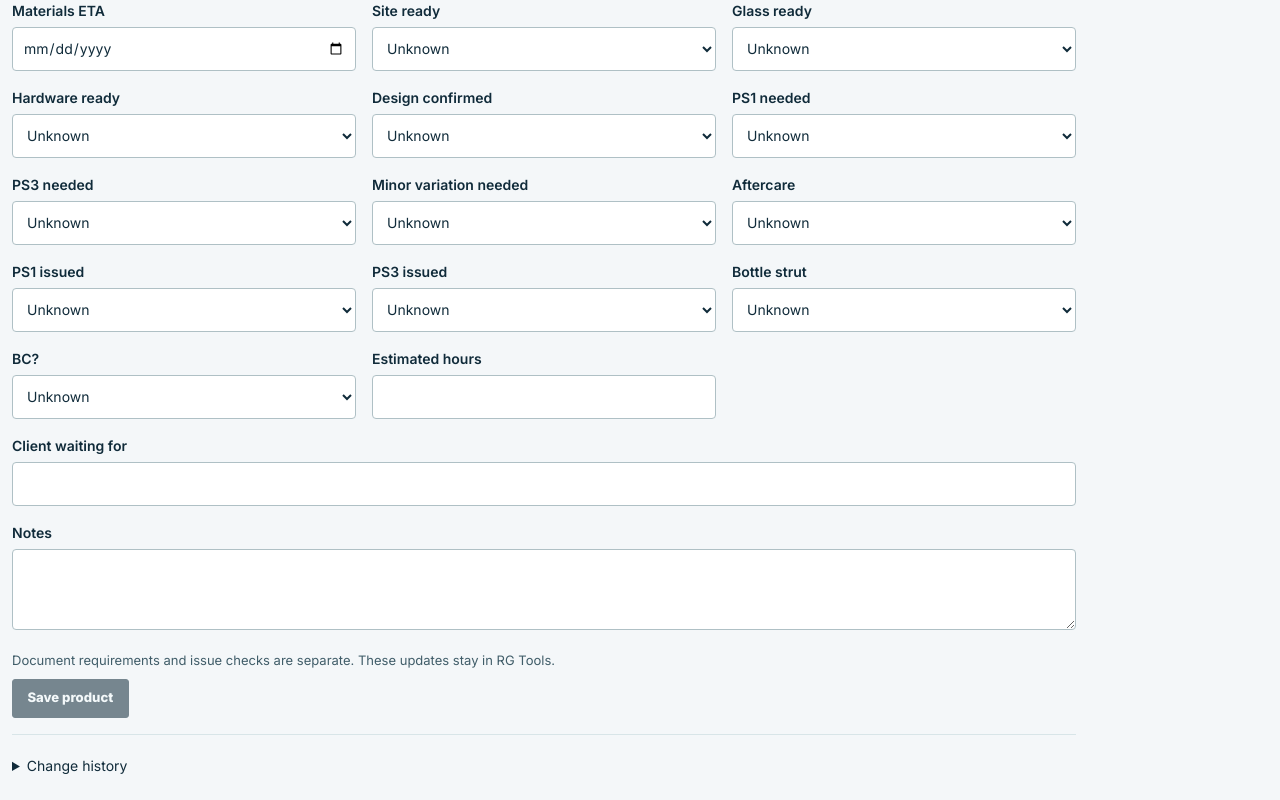
Test: staff product editor › retains a staff draft when a stale save is rejected
This screenshot has width=1280, height=800.
(page scrolled)
Step 1. Type "Keep my draft" into the text box labelled "Notes" → (544, 589), box [12,549,1076,630]
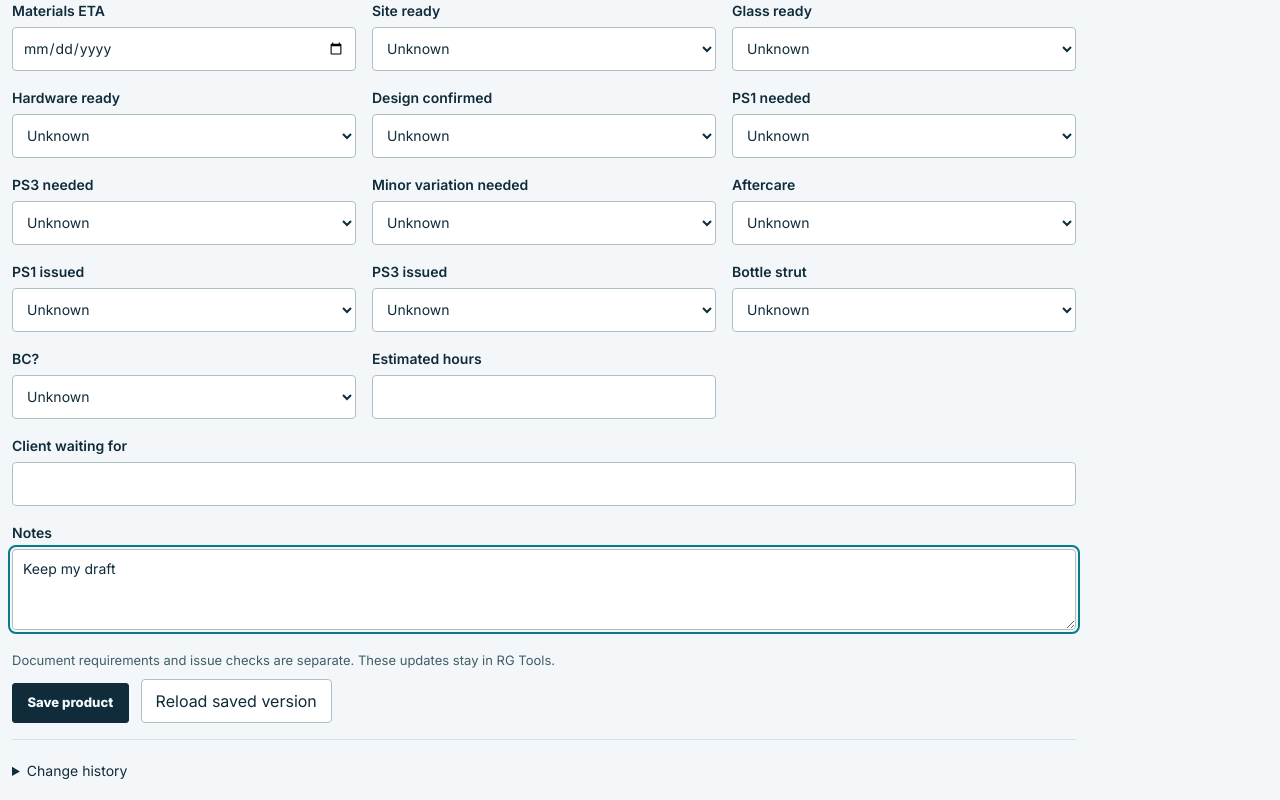
Step 2. Click the button "Save product" → (70, 703), box [12,683,129,723]
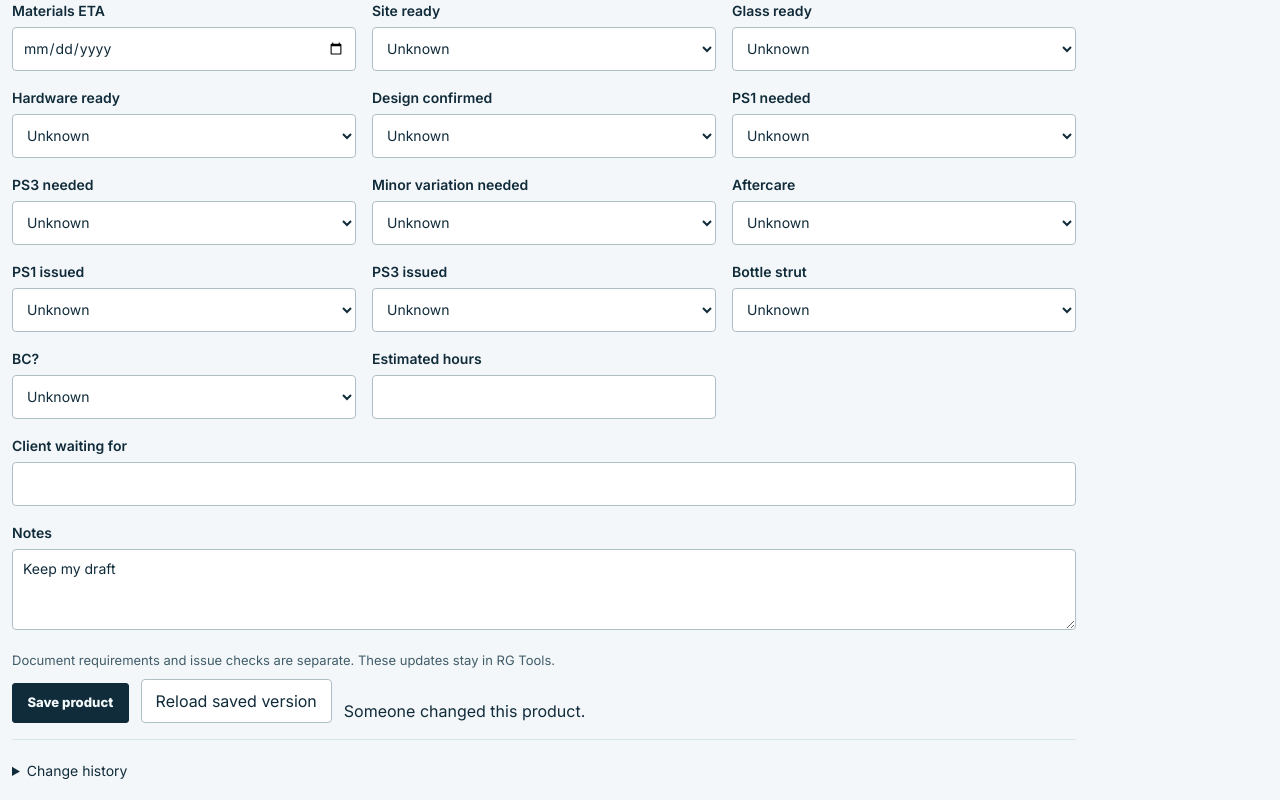
Expected: the message shows "Someone changed", [344,701,585,721]
